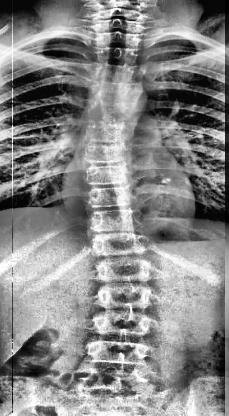Vertebrae: (91, 312, 156, 338), (83, 367, 146, 393), (87, 340, 148, 364), (96, 283, 152, 308), (94, 259, 152, 283), (88, 233, 150, 255), (84, 163, 134, 187), (88, 210, 140, 233), (88, 186, 138, 208), (88, 102, 140, 120), (89, 83, 142, 100), (98, 28, 142, 48), (84, 124, 132, 142), (85, 144, 131, 162), (93, 64, 136, 82), (99, 46, 138, 64)
